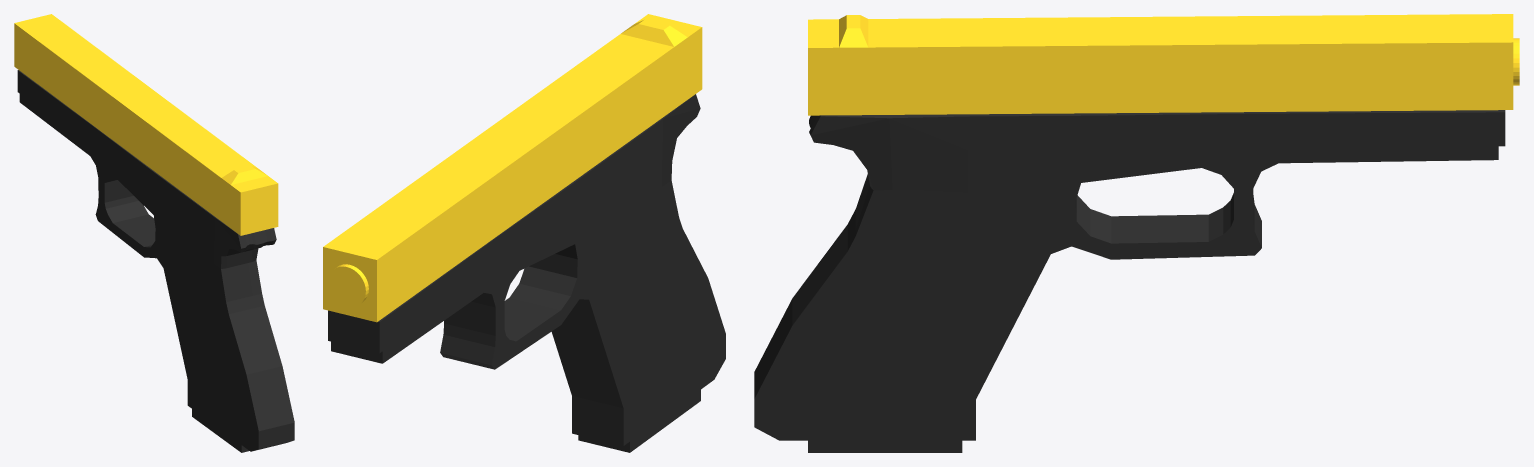
Rendered from GunProject.fbx.
3 renders of one model, left to right at view 1: azimuth 30°, elevation 25°; view 2: azimuth 150°, elevation 25°; view 3: azimuth 270°, elevation 25°, orthographic. The views are drawn at different scales.
Parts seen in each view (by area): view 1: Balls; view 2: Balls; view 3: Balls.
Boxes of the visible parts, x1=… form: Balls: x1=14, y1=14, x2=294, y2=452; Balls: x1=323, y1=14, x2=725, y2=452; Balls: x1=754, y1=14, x2=1519, y2=452.
Bounding box in the file's own units: 103 × 701 × 1165.
